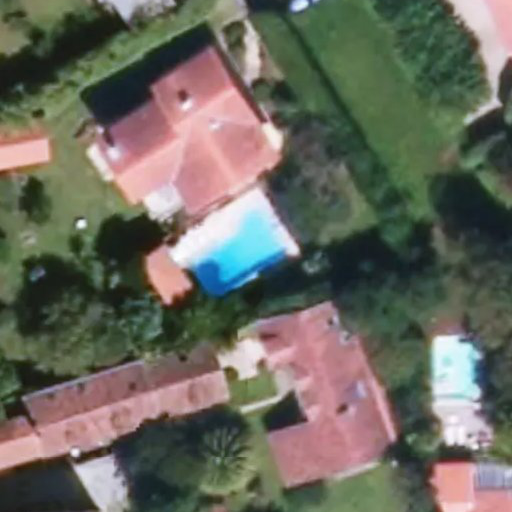pool: (187, 240, 315, 246)
